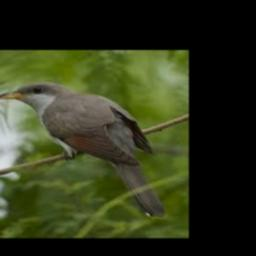Cuckoo: (0, 82, 165, 218)
